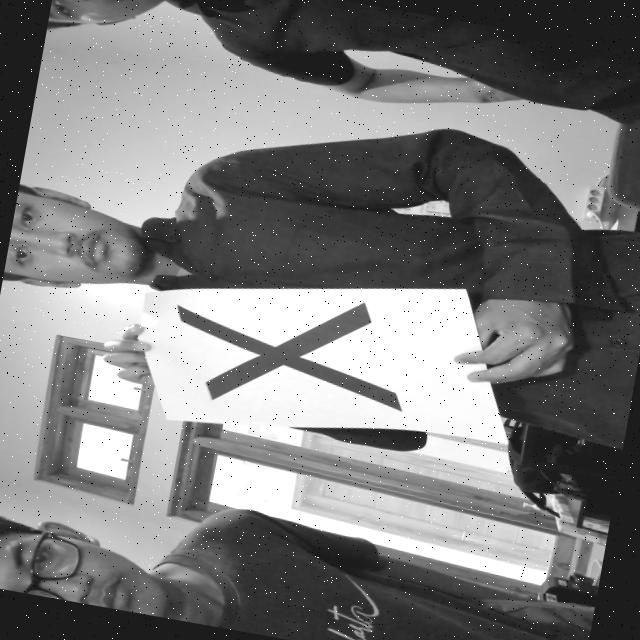x: (156, 266, 428, 443)
